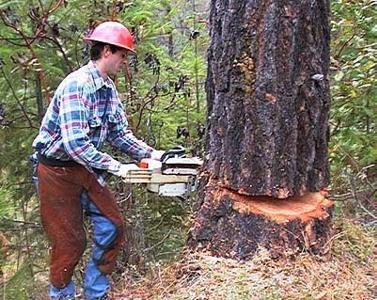person: (31, 21, 164, 300)
